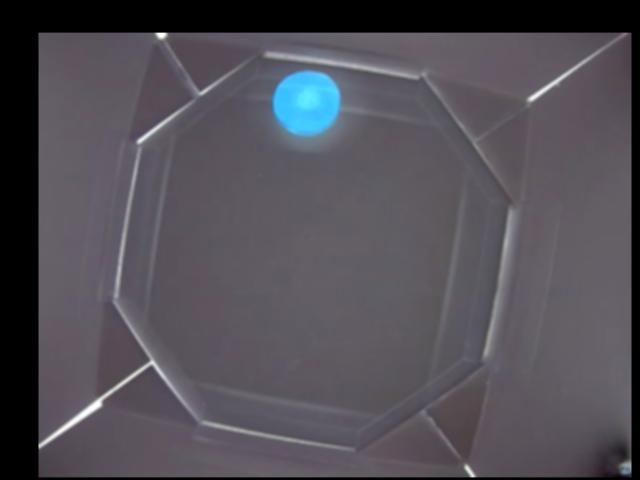Carrot: (271, 71, 340, 135)
